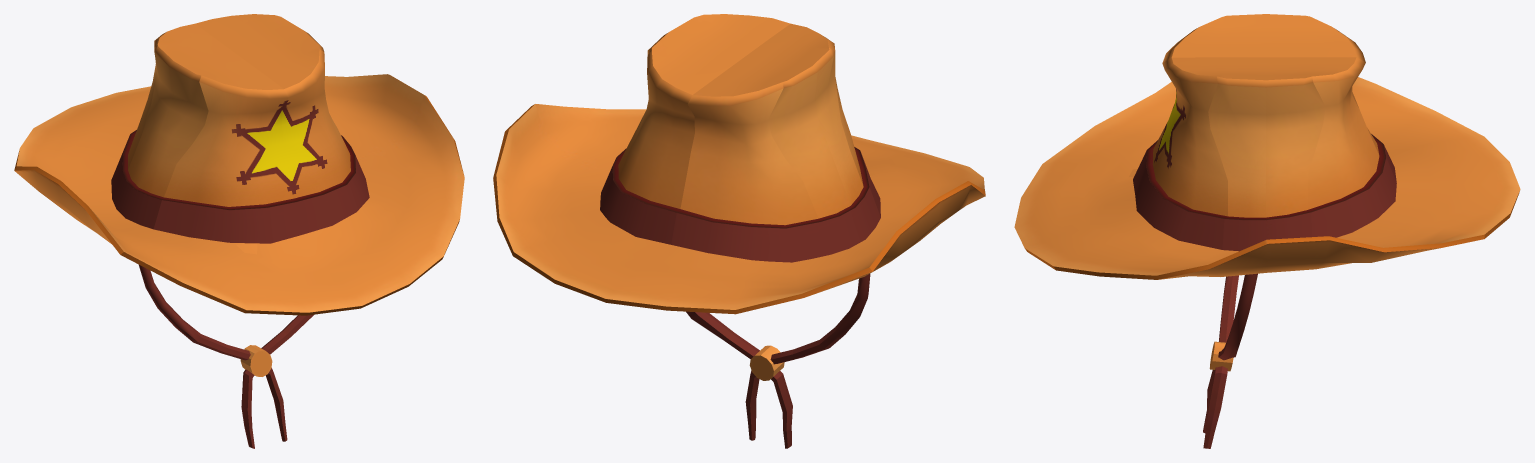
The model's file is hat_03.fbx.
3 renders of one model, left to right at view 1: azimuth 30°, elevation 25°; view 2: azimuth 150°, elevation 25°; view 3: azimuth 270°, elevation 25°, orthographic. The views are drawn at different scales.
Parts seen in each view (by area): view 1: hat_03; view 2: hat_03; view 3: hat_03.
Boxes of the visible parts, x1,y1,x2,y2 form: hat_03: (14, 14, 464, 448); hat_03: (493, 14, 985, 448); hat_03: (1014, 14, 1520, 448).
Size of the model in its own units: 103 by 100 by 117.
